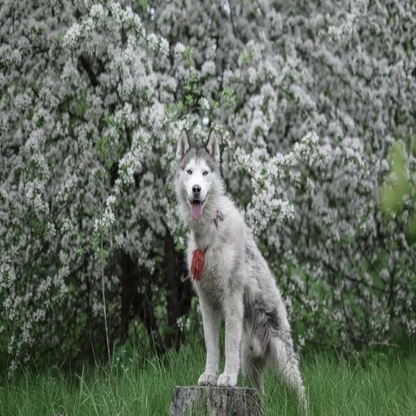husky: (168, 127, 311, 416)
